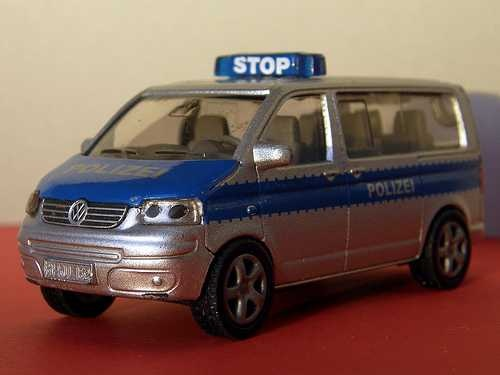Police Car: (19, 34, 494, 335)
